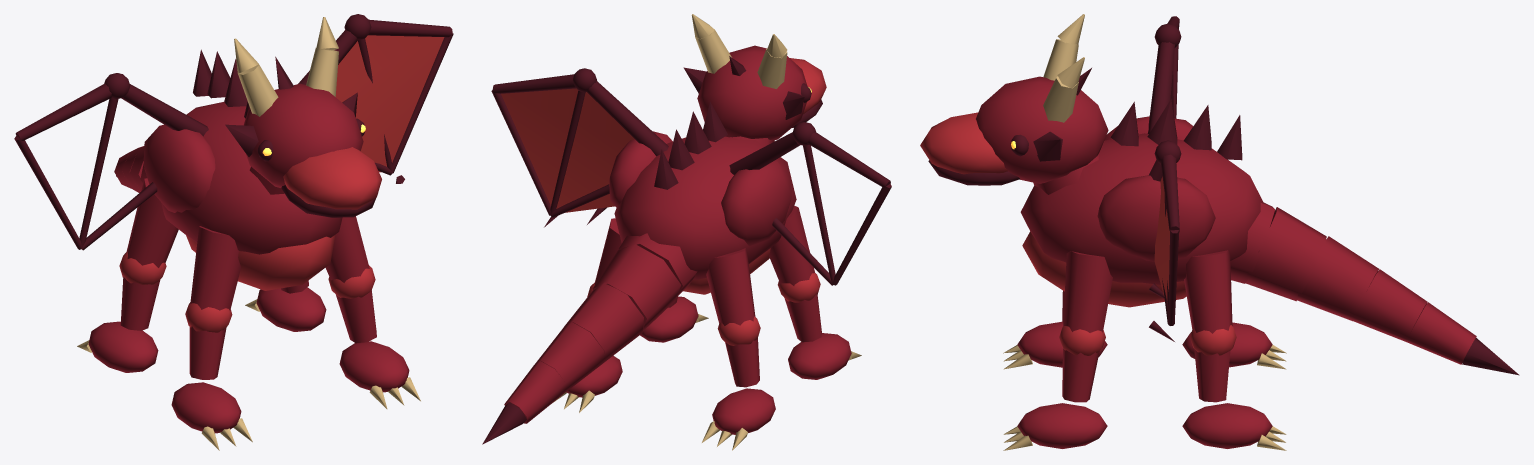
File: asset.glb
3 renders of one model, left to right at view 1: azimuth 30°, elevation 25°; view 2: azimuth 150°, elevation 25°; view 3: azimuth 270°, elevation 25°, orthographic. The views are drawn at different scales.
Parts seen in each view (by area): view 1: CrimsonWraith, LeftWingMembrane; view 2: CrimsonWraith, LeftWingMembrane; view 3: CrimsonWraith, LeftWingMembrane.
Part boxes in pixels (left/top/right/bottom): CrimsonWraith: left=14, top=14, right=453, bottom=450; LeftWingMembrane: left=335, top=35, right=444, bottom=172; CrimsonWraith: left=482, top=14, right=891, bottom=450; LeftWingMembrane: left=501, top=88, right=634, bottom=212; CrimsonWraith: left=920, top=14, right=1519, bottom=450; LeftWingMembrane: left=1154, top=176, right=1169, bottom=300.
Size of the model in its own units: 5.99 by 4.86 by 7.16.
